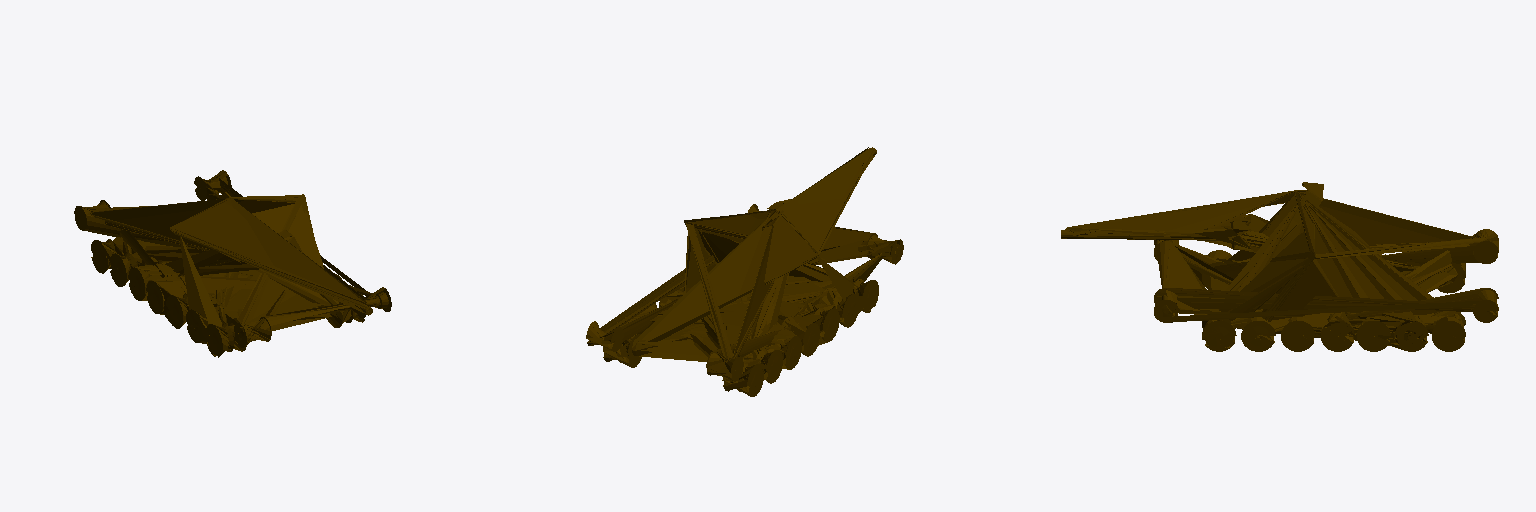
File: tank.obj
3 views of the same model, side by side, from view 1: azimuth 30°, elevation 25°; view 2: azimuth 150°, elevation 25°; view 3: azimuth 270°, elevation 25° (orthographic).
Parts seen in each view (by area): view 1: Box04, Box51, Box01, Cylinder21; view 2: Box04, Cylinder21, Box01, Box51; view 3: Box04, Box51, Cylinder21, Box01.
Part boxes in pixels (x1,y1,x2,y2): Box04: (75,170,391,357); Box51: (74,172,390,356); Box01: (74,194,328,351); Cylinder21: (74,195,317,323); Box04: (586,147,903,396); Cylinder21: (632,210,821,379); Box01: (638,209,869,396); Box51: (587,204,899,395); Box04: (1061,182,1498,351); Box51: (1154,190,1498,351); Cylinder21: (1220,191,1494,300); Box01: (1210,190,1498,292).
Size of the model in its own units: 154 by 123 by 402.